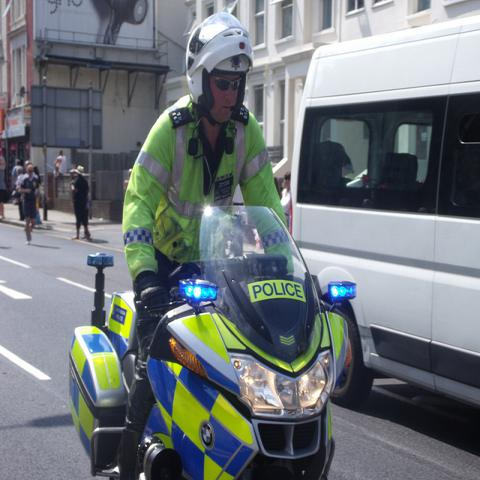bus: (290, 14, 480, 412)
motorcycle: (69, 199, 357, 479)
